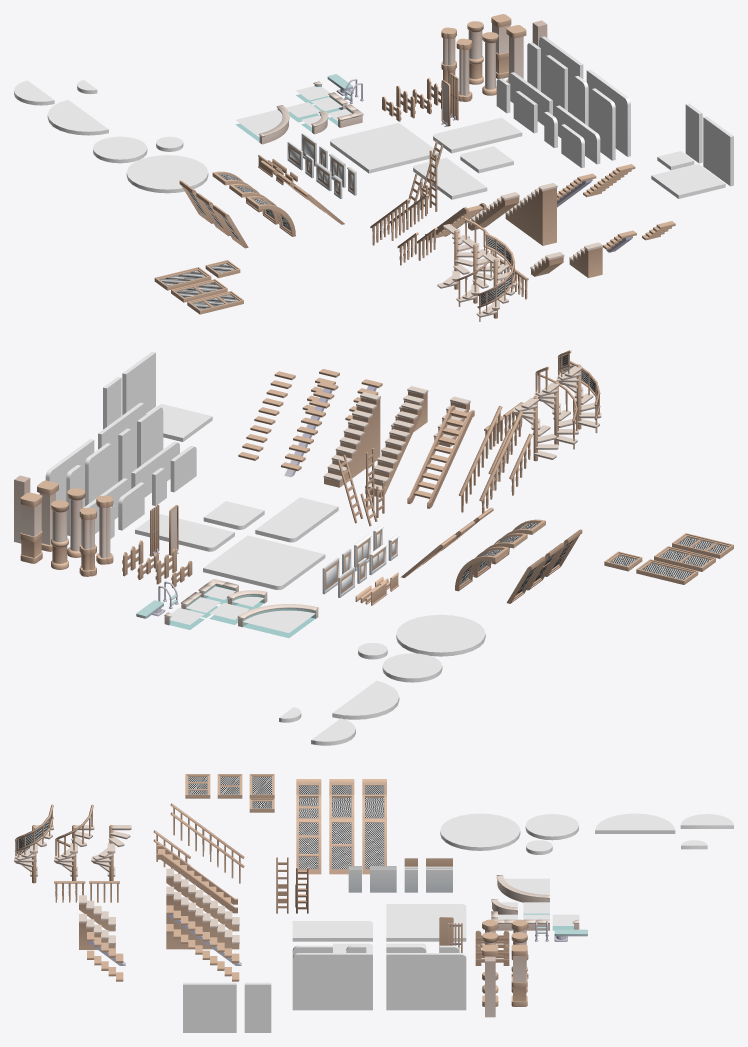
File: walls.glb
3 renders of one model, top to bottom at view 1: azimuth 30°, elevation 25°; view 2: azimuth 150°, elevation 25°; view 3: azimuth 270°, elevation 25°, orthographic. The views are drawn at different scales.
Parts seen in each view (by area): view 1: floor-w2l2, floor-round-large, stairs-closed, stairs-spiral-railing-double, floor-w1l2, wall-standard-wide, wall-w3h2r, floor-standard-large, floor-w2l1, floor-half-round-large, stairs-spiral-railing, wall-w2h2r (+32 smaller); view 2: floor-w2l2, floor-round-large, stairs-closed, stairs-skirts, floor-w2l1, stairs-slanted, stairs-spiral-railing-double, floor-w1l2, floor-half-round-large, wall-standard-wide, stairs-floating-support, stairs-spiral-railing (+28 smaller); view 3: wall-w3h2l, wall-w3h2r, wall-standard-wide, floor-w2l2, floor-round-large, stairs-closed, floor-w2l1, wall-standard, floor-half-round-large, stairs-skirts, stairs-slanted, stairs-spiral-railing-double (+23 smaller).
Part boxes in pixels (box(x1,y1,x2,y2)): floor-w2l2: box(330, 123, 438, 173); floor-round-large: box(126, 155, 208, 193); stairs-closed: box(505, 183, 557, 245); stairs-spiral-railing-double: box(476, 232, 516, 321); floor-w1l2: box(433, 117, 522, 153); wall-standard-wide: box(703, 116, 733, 186); wall-w3h2r: box(586, 69, 630, 156); floor-standard-large: box(651, 164, 725, 198); floor-w2l1: box(413, 157, 487, 199); floor-half-round-large: box(47, 100, 108, 135); stairs-spiral-railing: box(456, 217, 494, 306); wall-w2h2r: box(592, 88, 615, 160); floor-w2l2: box(203, 535, 325, 589); floor-round-large: box(396, 614, 485, 656); stairs-closed: box(323, 392, 380, 487); stairs-skirts: box(407, 405, 474, 508); floor-w2l1: box(255, 497, 338, 542); stairs-slanted: box(365, 402, 422, 497); stairs-spiral-railing-double: box(556, 350, 601, 433); floor-w1l2: box(135, 514, 234, 551); floor-half-round-large: box(332, 680, 399, 719); wall-standard-wide: box(122, 351, 155, 415); stairs-floating-support: box(281, 381, 338, 477); stairs-spiral-railing: box(534, 366, 578, 449); wall-w3h2l: box(386, 953, 466, 1010); wall-w3h2r: box(292, 953, 372, 1010); wall-standard-wide: box(183, 982, 236, 1032); floor-w2l2: box(386, 904, 466, 941); floor-round-large: box(440, 813, 520, 850); stairs-closed: box(166, 886, 239, 949); floor-w2l1: box(292, 921, 372, 941); wall-standard: box(244, 982, 271, 1032); floor-half-round-large: box(595, 813, 675, 833); stairs-skirts: box(156, 845, 237, 913); stairs-slanted: box(166, 868, 239, 931); stairs-spiral-railing-double: box(14, 804, 53, 883).
Size of the model in its own units: 22.6 by 3.42 by 26.95.
Materials: 7 (1 with a texture image).
